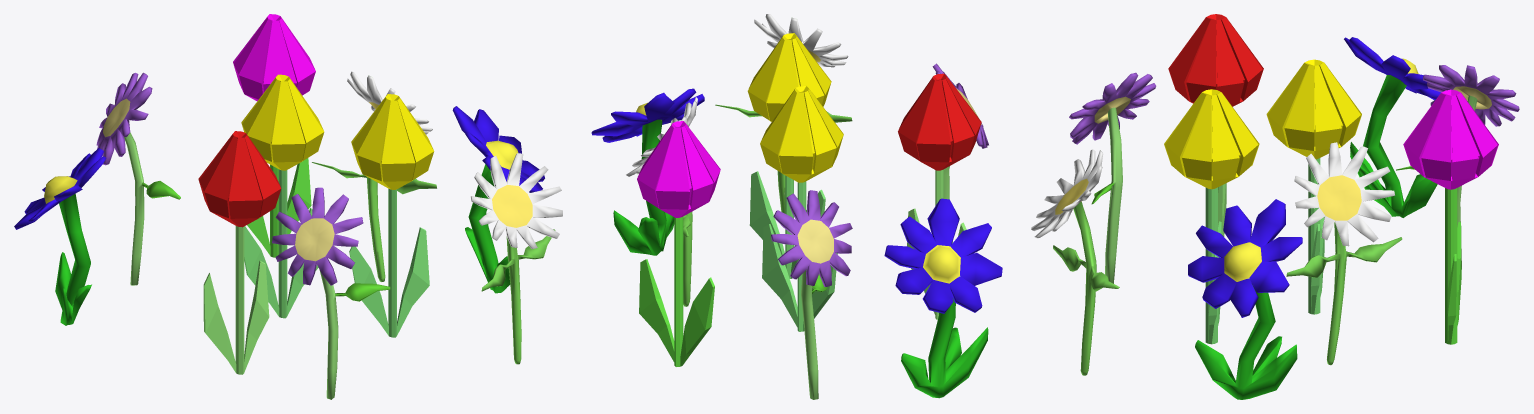
The model's file is Conjunto_De_Flores_LOD_001.fbx.
3 renders of one model, left to right at view 1: azimuth 30°, elevation 25°; view 2: azimuth 150°, elevation 25°; view 3: azimuth 270°, elevation 25°, orthographic. The views are drawn at different scales.
Parts seen in each view (by area): view 1: Flores_LOD0; view 2: Flores_LOD0; view 3: Flores_LOD0.
Part boxes in pixels (<box>): Flores_LOD0: <box>14,14,562,399</box>; Flores_LOD0: <box>591,14,1002,399</box>; Flores_LOD0: <box>1031,14,1519,399</box>.
Size of what is drawn, in the model's own units: 427 by 216 by 378.
